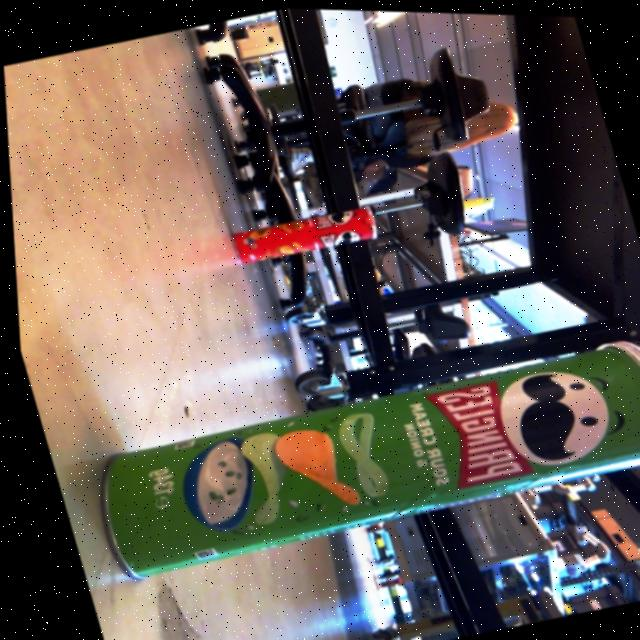greenpringles: (53, 300, 640, 623)
redpringles: (196, 180, 406, 290)
